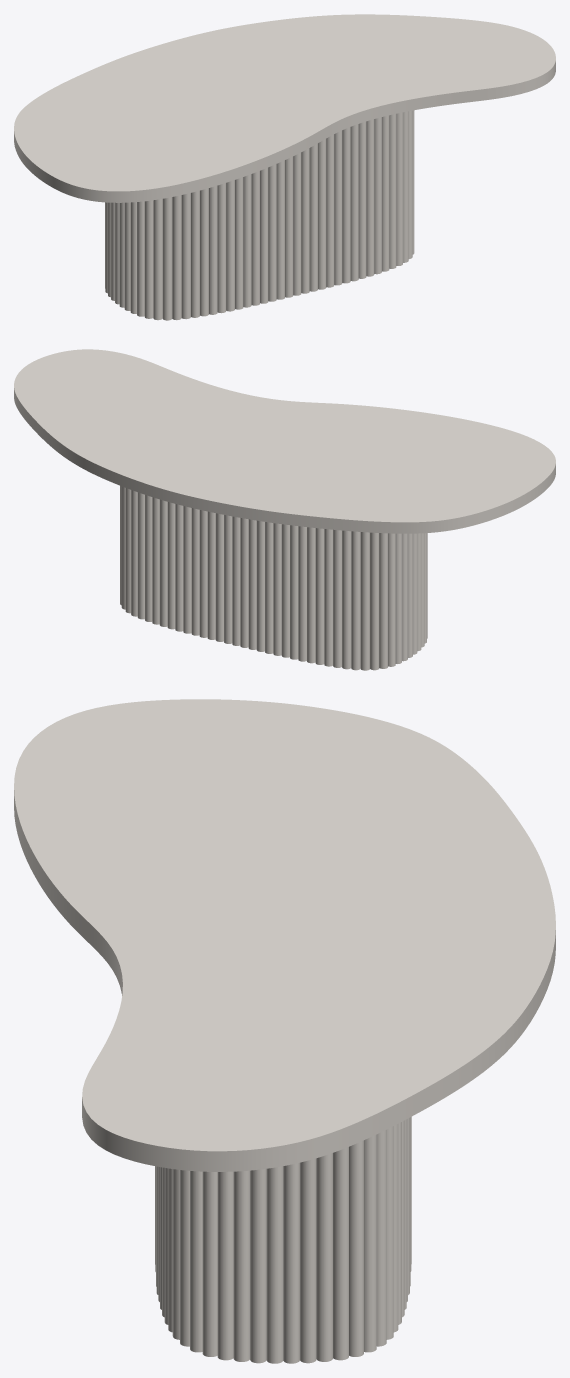
File: pearlwhite_leaf1_standard_newtable.glb
3 views of the same model, one above another, from view 1: azimuth 30°, elevation 25°; view 2: azimuth 150°, elevation 25°; view 3: azimuth 270°, elevation 25° (orthographic). The views are drawn at different scales.
Visible parts, largest first — view 1: standard_leaf1, plane; view 2: standard_leaf1, plane; view 3: standard_leaf1, plane.
Part boxes in pixels (x1,y1,x2,y2): standard_leaf1: (14,14,555,202); plane: (105,110,414,320); standard_leaf1: (14,349,555,533); plane: (120,486,427,670); standard_leaf1: (14,699,555,1171); plane: (155,1117,411,1363).
Size of the model in its own units: 7.5 by 2.51 by 3.8.
Materials: 2 (2 with a texture image).
